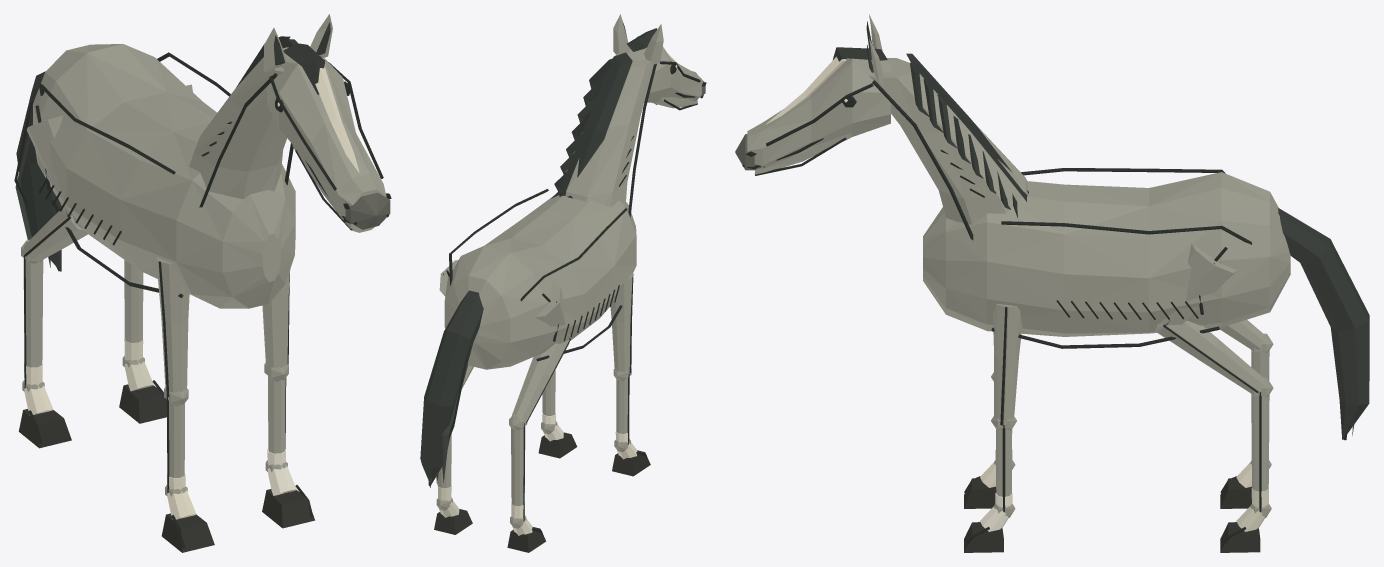
The model's file is horses-ink.glb.
3 views of the same model, side by side, from view 1: azimuth 30°, elevation 25°; view 2: azimuth 150°, elevation 25°; view 3: azimuth 270°, elevation 25° (orthographic). The views are drawn at different scales.
Parts seen in each view (by area): view 1: ink_Charcoal_Body, ink_Charcoal_Head, ink_Charcoal_Neck, ink_Charcoal_LegFL_Forearm, ink_Charcoal_Tail, ink_Charcoal_LegBL_Lower, ink_Charcoal_LegBR_Hoof, ink_Charcoal_LegFR_Forearm, ink_Charcoal_LegBR_Lower, ink_Charcoal_LegBL_Gaskin, ink_Charcoal_LegFR_Hoof, ink_Charcoal_LegFL_Lower (+9 smaller); view 2: ink_Charcoal_Body, ink_Charcoal_Neck, ink_Charcoal_Tail, ink_Charcoal_Head, ink_Charcoal_LegBL_Gaskin, ink_Charcoal_LegFL_Forearm, ink_Charcoal_LegBL_Lower, ink_Charcoal_LegBR_Hoof, ink_Charcoal_LegFL_Lower, ink_Charcoal_LegBL_Thigh, ink_Charcoal_LegBL_Hoof, ink_Charcoal_LegFR_Hoof (+4 smaller); view 3: ink_Charcoal_Body, ink_Charcoal_Neck, ink_Charcoal_Head, ink_Charcoal_Tail, ink_Charcoal_LegBR_Gaskin, ink_Charcoal_LegFR_Forearm, ink_Charcoal_LegBR_Lower, ink_Charcoal_LegBR_Thigh, ink_Charcoal_LegBR_Hoof, ink_Charcoal_LegFR_Lower, ink_Charcoal_LegFR_Hoof, ink_Charcoal_Jaw (+3 smaller).
Part boxes in pixels (x1,y1,x2,y2): ink_Charcoal_Body: (33, 44, 295, 308); ink_Charcoal_Head: (263, 14, 391, 229); ink_Charcoal_Neck: (189, 36, 297, 207); ink_Charcoal_LegFL_Forearm: (156, 257, 189, 396); ink_Charcoal_Tail: (14, 71, 61, 271); ink_Charcoal_LegBL_Lower: (21, 239, 43, 388); ink_Charcoal_LegBR_Hoof: (119, 356, 166, 423); ink_Charcoal_LegFR_Forearm: (262, 271, 289, 371); ink_Charcoal_LegBR_Lower: (124, 260, 143, 363); ink_Charcoal_LegBL_Gaskin: (23, 209, 87, 262); ink_Charcoal_LegFR_Hoof: (262, 460, 315, 528); ink_Charcoal_LegFL_Lower: (164, 387, 188, 492); ink_Charcoal_Body: (444, 189, 636, 369); ink_Charcoal_Neck: (551, 52, 656, 217); ink_Charcoal_Tail: (420, 290, 483, 487); ink_Charcoal_Head: (613, 14, 706, 102); ink_Charcoal_LegBL_Gaskin: (511, 337, 570, 423); ink_Charcoal_LegFL_Forearm: (610, 272, 633, 373); ink_Charcoal_LegBL_Lower: (509, 414, 527, 521); ink_Charcoal_LegBR_Hoof: (434, 497, 472, 534); ink_Charcoal_LegFL_Lower: (613, 368, 631, 444); ink_Charcoal_LegBL_Thigh: (535, 280, 569, 343); ink_Charcoal_LegBL_Hoof: (507, 515, 546, 552); ink_Charcoal_LegFR_Hoof: (538, 421, 577, 458); ink_Charcoal_Body: (923, 168, 1290, 348); ink_Charcoal_Neck: (869, 53, 1028, 240); ink_Charcoal_Head: (735, 14, 890, 170); ink_Charcoal_Tail: (1278, 208, 1369, 440); ink_Charcoal_LegBR_Gaskin: (1155, 320, 1264, 394); ink_Charcoal_LegFR_Forearm: (993, 304, 1022, 425); ink_Charcoal_LegBR_Lower: (1251, 377, 1273, 512); ink_Charcoal_LegBR_Thigh: (1161, 243, 1237, 325); ink_Charcoal_LegBR_Hoof: (1220, 504, 1271, 552); ink_Charcoal_LegFR_Lower: (991, 416, 1016, 512); ink_Charcoal_LegFR_Hoof: (964, 504, 1015, 552); ink_Charcoal_Jaw: (755, 133, 851, 175).
Bounding box in the file's own units: 0.7074 × 2.27 × 2.62.
